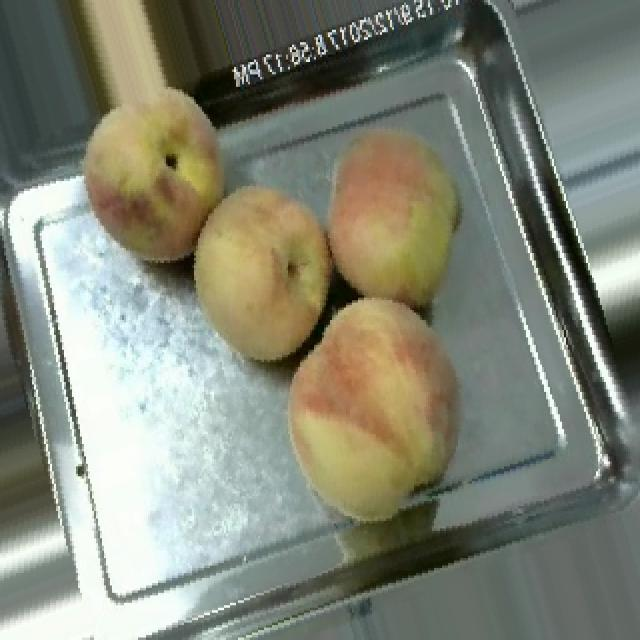Fruit: (256, 275, 494, 546), (52, 67, 254, 290), (304, 102, 488, 332), (162, 159, 350, 384)
